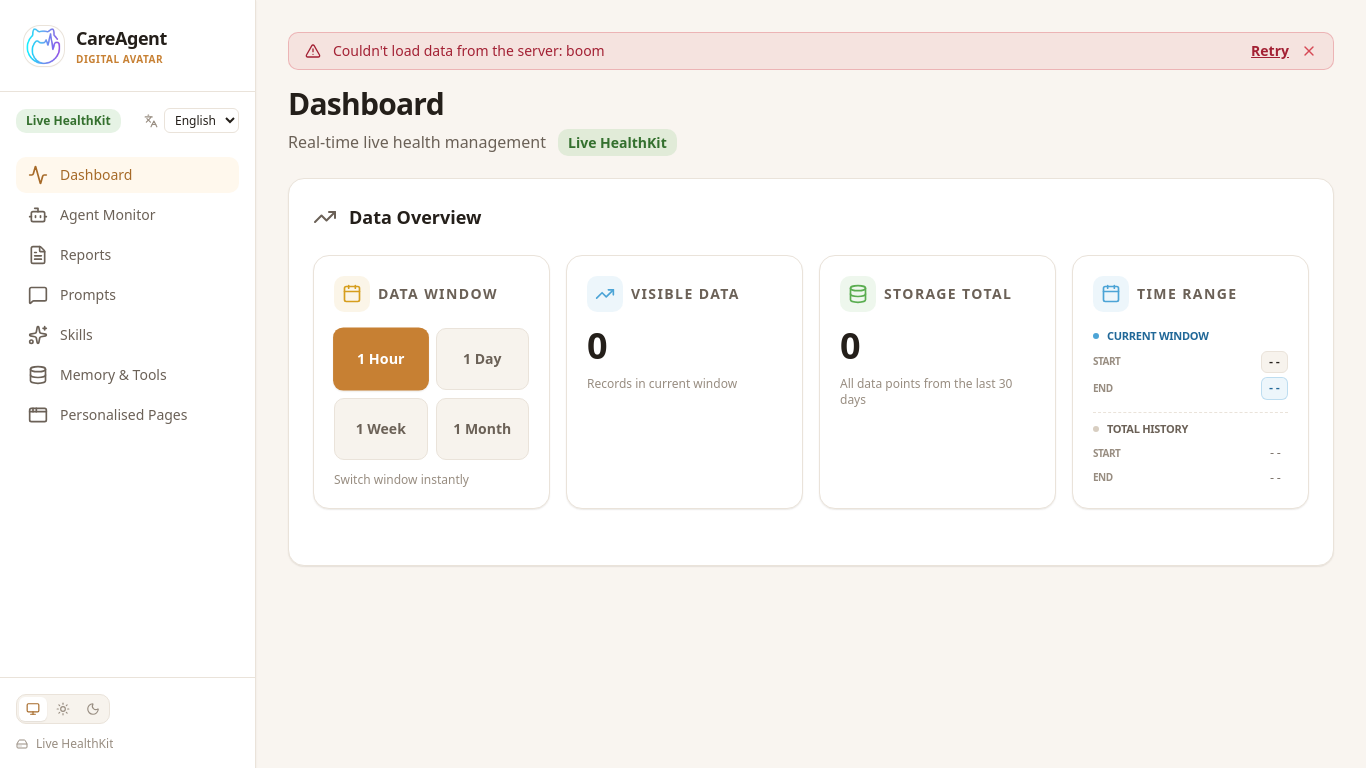
App banners › the banner can be dismissed
This screenshot has width=1366, height=768.
Expected: the message shows "boom", [333, 41, 605, 60]
Click the button named "Dismiss" at (1309, 51), box [1301, 43, 1317, 59]
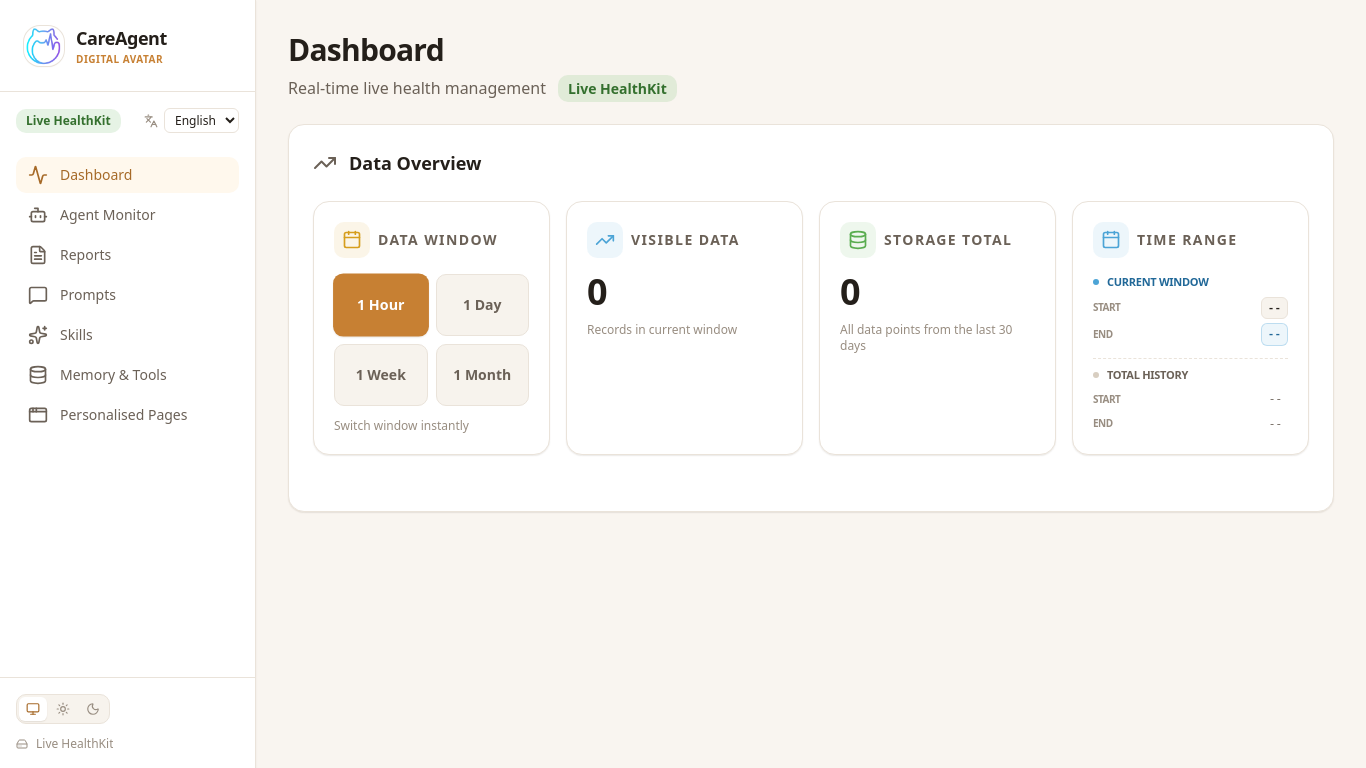
Now the message "Couldn't load data from the server: boom Retry" is gone
